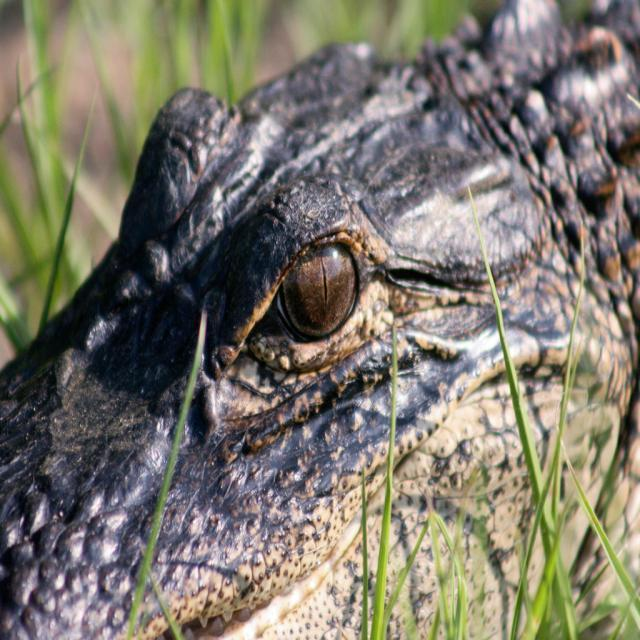crocodile: (3, 1, 639, 639)
